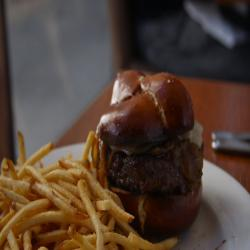burger: (86, 67, 220, 239)
fries: (1, 138, 142, 250)
